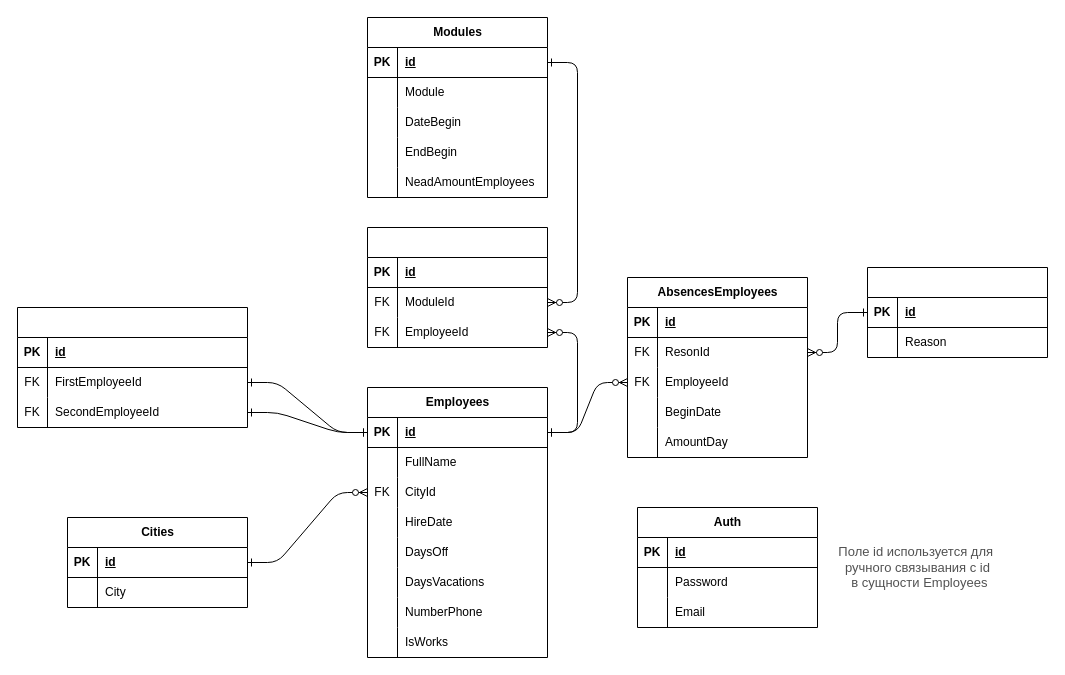
Some shapes in this 1065 by 675 pixel diagram are drawn without their labels. The shapes that lost their labels are listed below. From the top down, each one's box as (x1, y1, x2, y2) in pixels, then its label:
(366, 226, 548, 348): Modules Employees
(866, 266, 1048, 358): ReasonsA bsences
(16, 306, 248, 428): Substitutions
